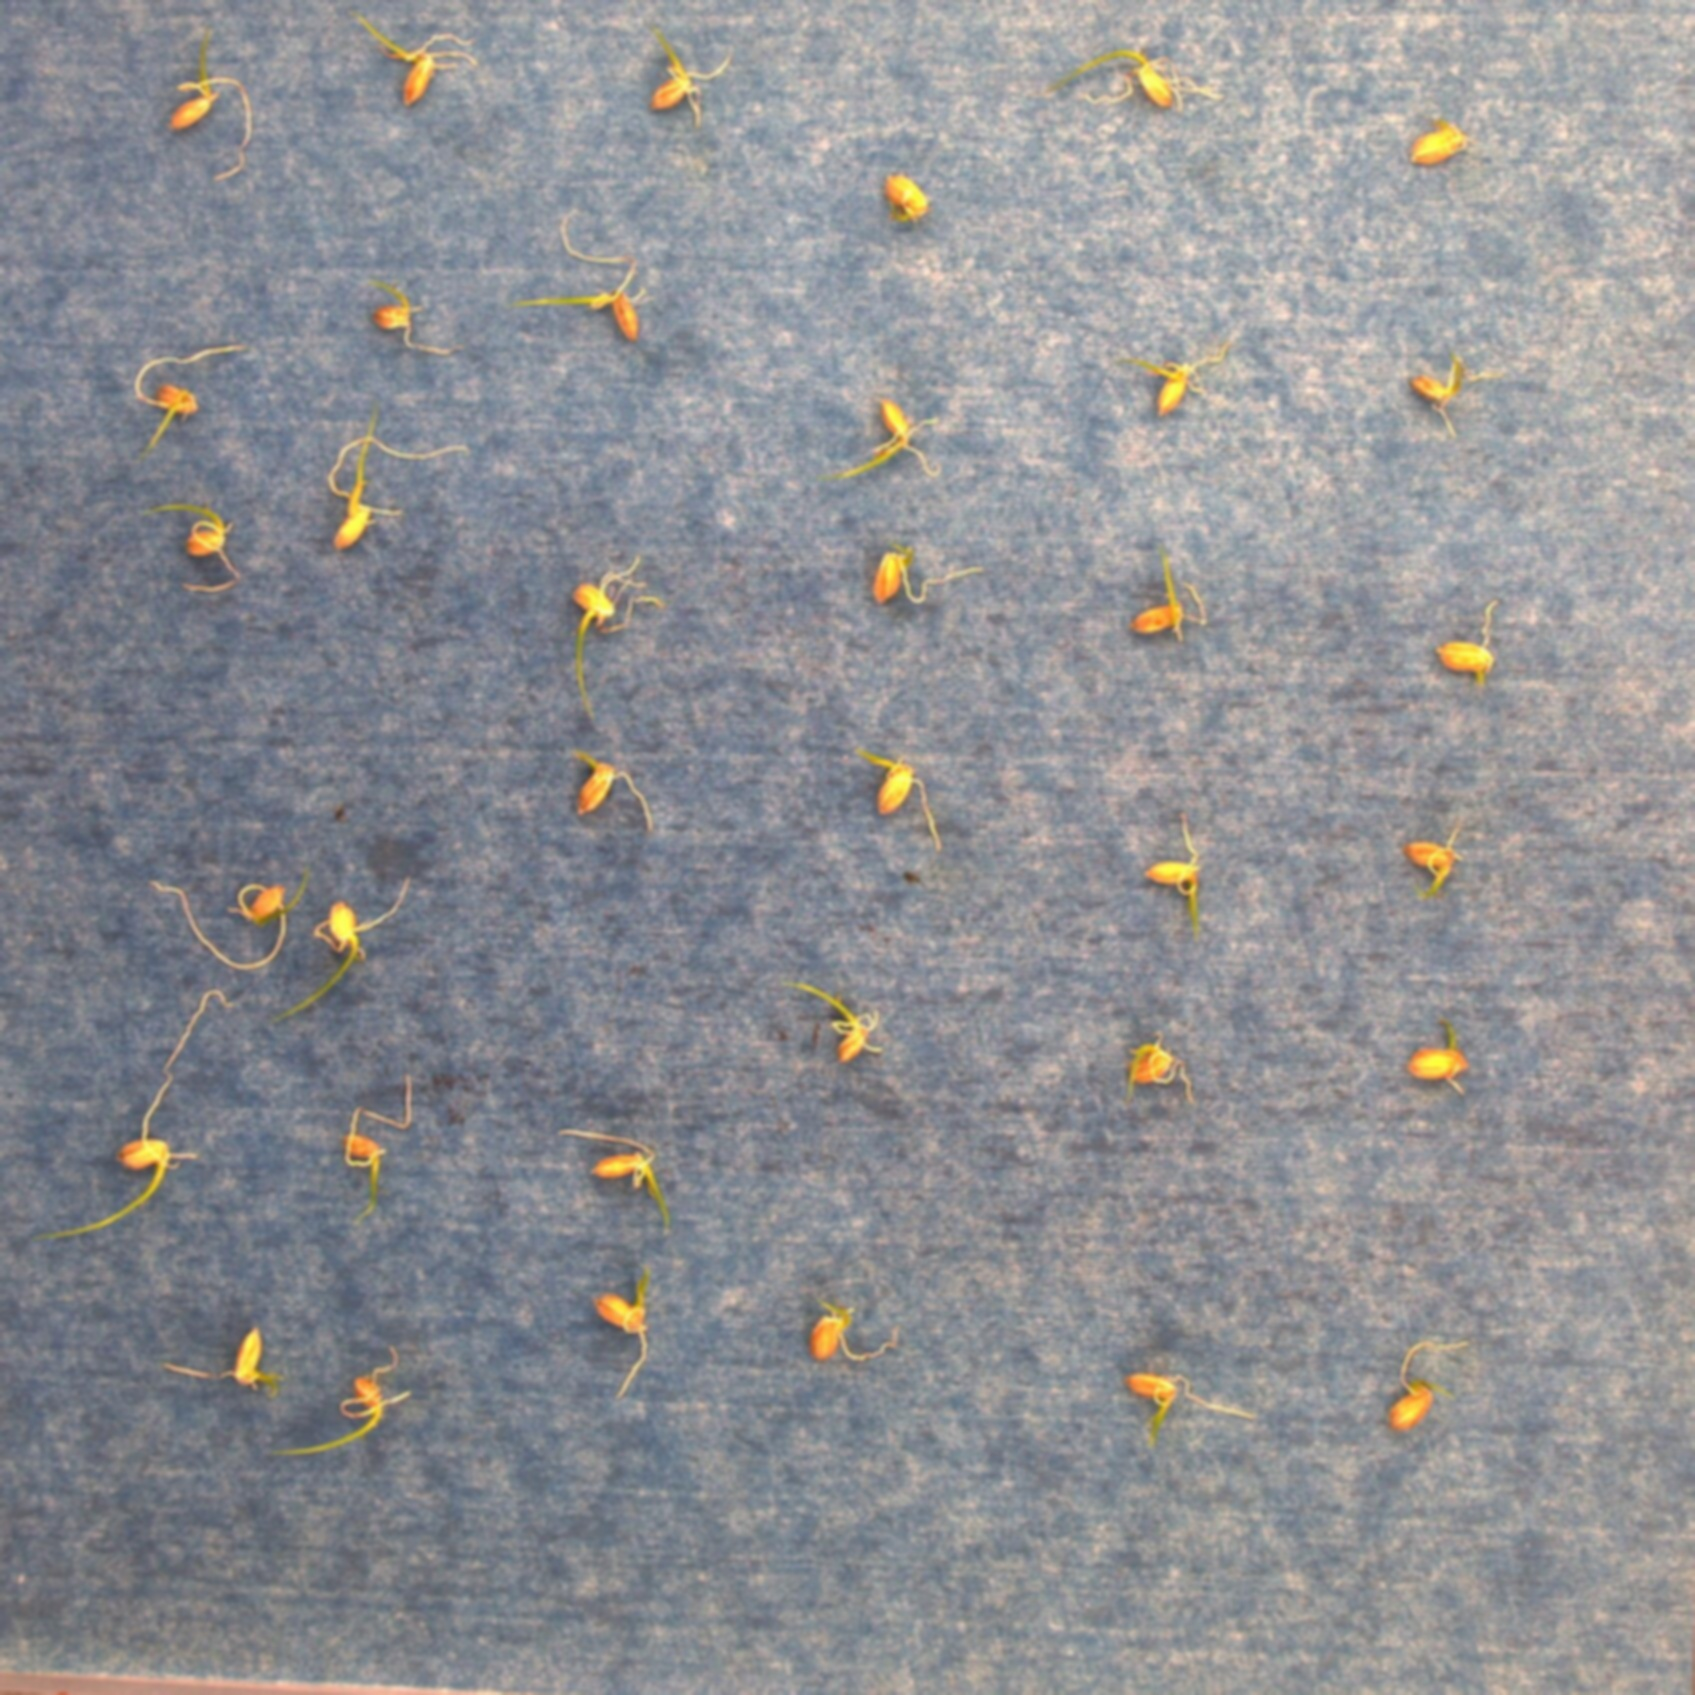not sprout: (365, 272, 455, 376), (1144, 343, 1226, 442), (1392, 1031, 1478, 1104), (1406, 116, 1481, 186), (875, 168, 947, 236)
sprout: (53, 981, 250, 1246), (275, 849, 422, 1029), (512, 203, 688, 354), (320, 418, 473, 560), (273, 1333, 414, 1478), (328, 1059, 435, 1243), (567, 531, 664, 706), (154, 328, 261, 473), (865, 515, 998, 629), (1133, 1357, 1257, 1478), (154, 22, 247, 183), (1073, 43, 1218, 143), (553, 1116, 674, 1228), (820, 383, 944, 490), (846, 730, 947, 860), (1138, 798, 1226, 944), (393, 39, 497, 160), (784, 1274, 908, 1374), (785, 962, 889, 1077), (633, 68, 744, 172), (590, 1260, 671, 1399), (1385, 1336, 1478, 1454), (185, 467, 261, 612), (1402, 809, 1485, 933), (1122, 546, 1218, 652), (1400, 340, 1496, 438), (189, 875, 289, 967), (171, 1319, 309, 1381), (1118, 1007, 1200, 1108), (567, 740, 649, 826), (1434, 605, 1507, 692)
